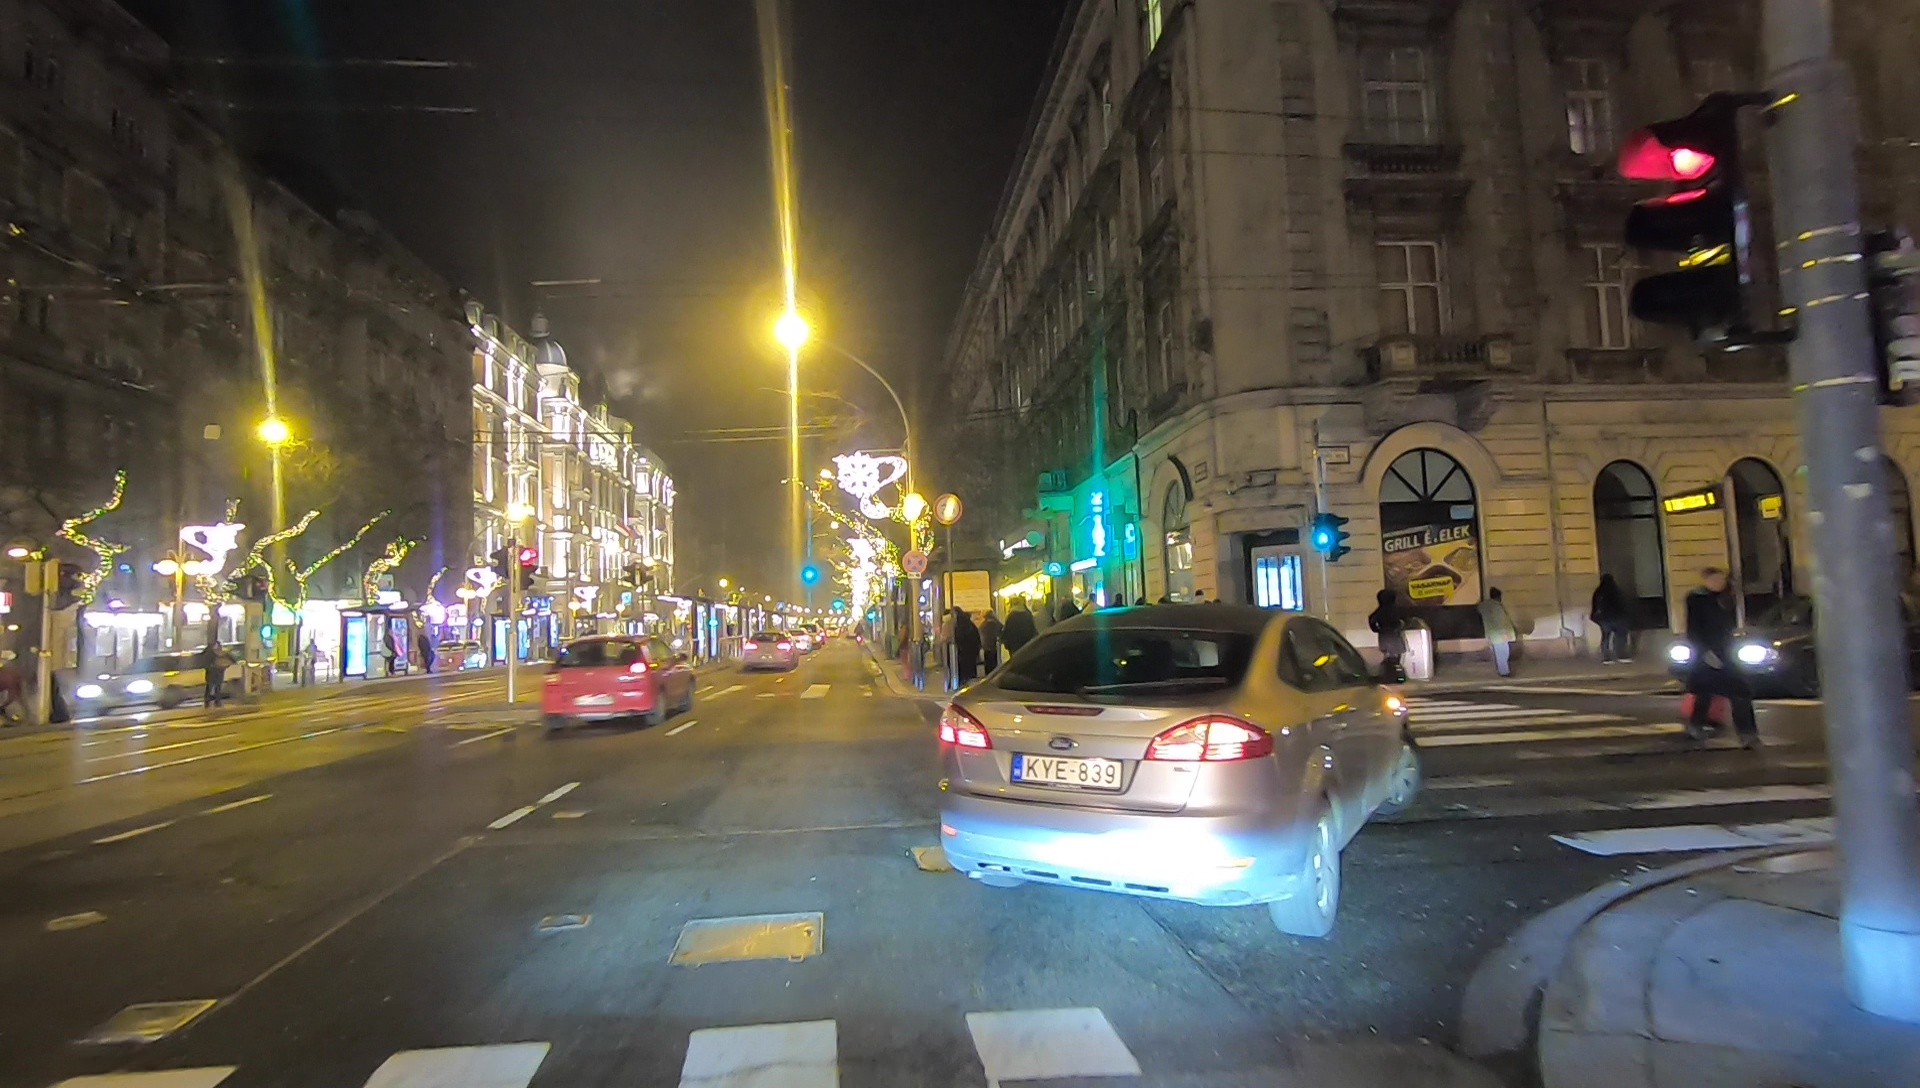person: (1685, 572, 1763, 749), (1475, 584, 1517, 678), (1372, 587, 1413, 676), (1590, 576, 1630, 663), (945, 607, 977, 687), (1007, 595, 1035, 667), (980, 611, 1003, 686)
